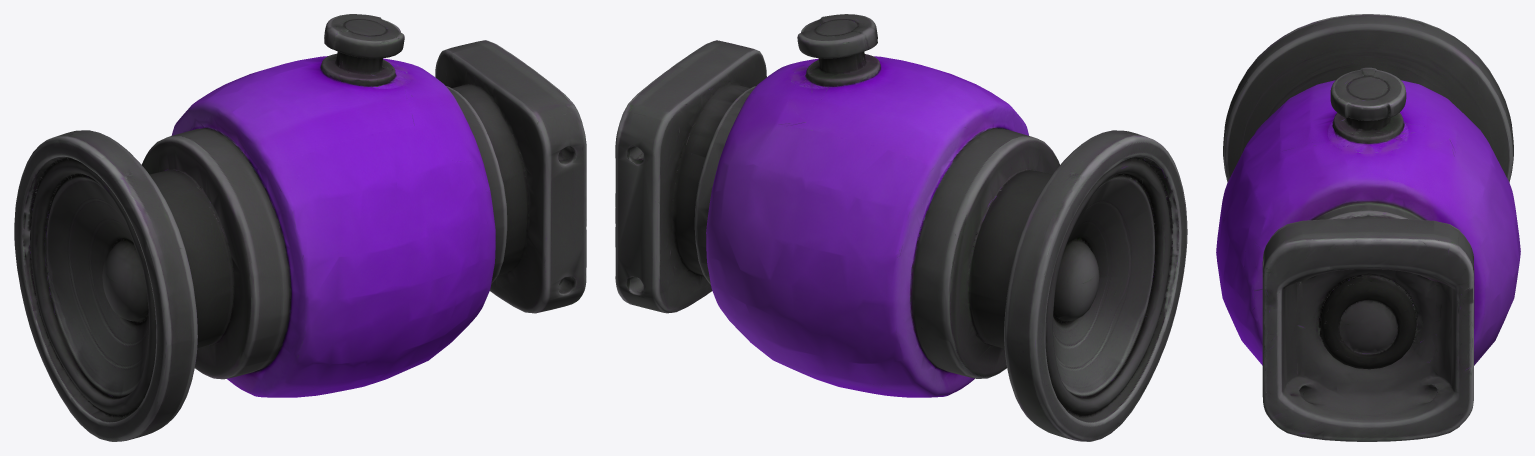
File: Meshy_AI_Purple_Speaker_Module_0614074858_texture.fbx
3 views of the same model, side by side, from view 1: azimuth 30°, elevation 25°; view 2: azimuth 150°, elevation 25°; view 3: azimuth 270°, elevation 25° (orthographic). The views are drawn at different scales.
Parts seen in each view (by area): view 1: Mesh_0; view 2: Mesh_0; view 3: Mesh_0.
Boxes of the visible parts, x1,y1,x2,y2 form: Mesh_0: [14, 14, 586, 441]; Mesh_0: [615, 14, 1187, 441]; Mesh_0: [1216, 14, 1520, 441].
Bounding box in the file's own units: 191 × 144 × 120.
Materials: 1 (1 with a texture image).
